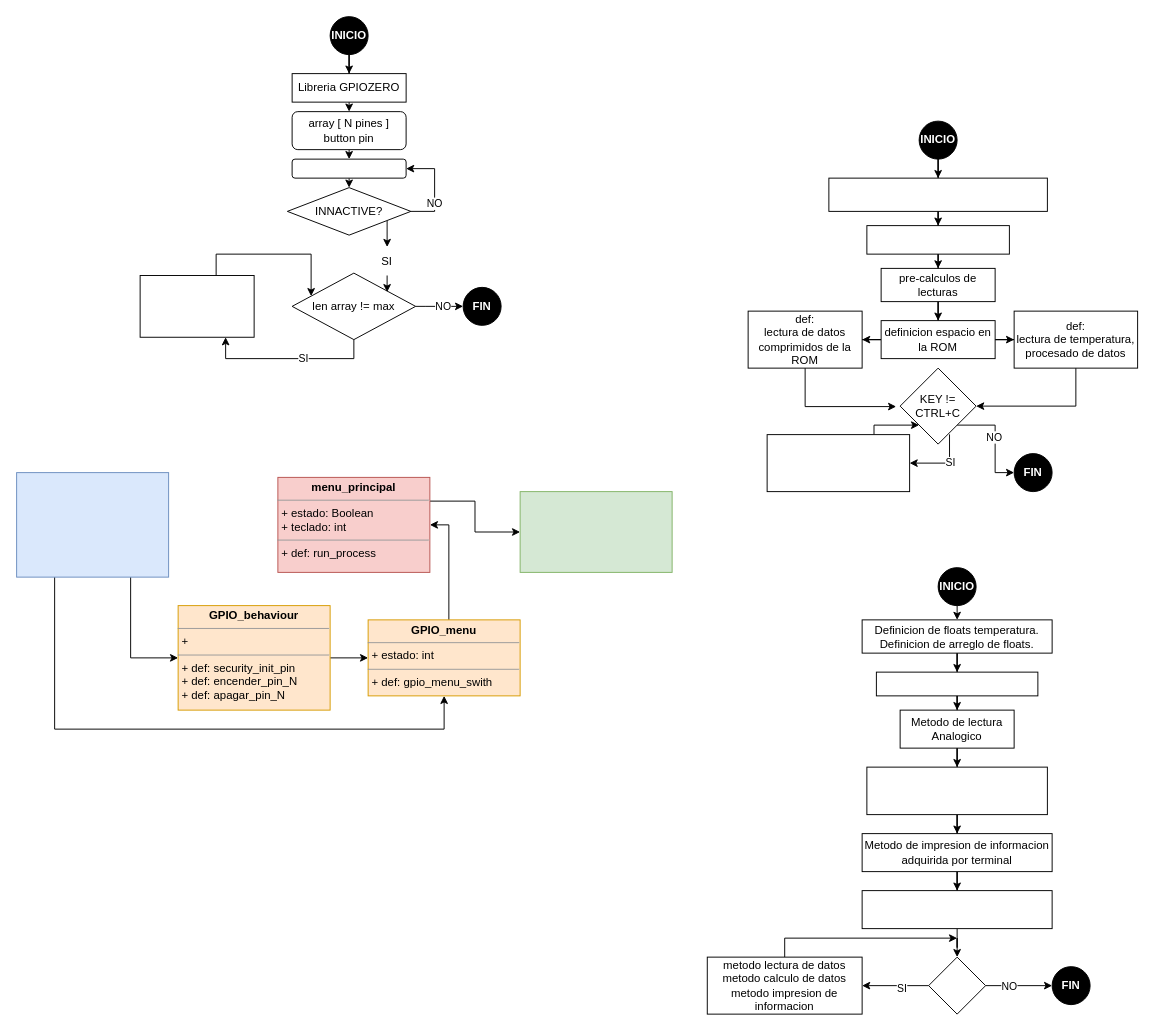
This 1154x1031 diagram has some shape labels left out. Here are the shapes that lost their labels. From the top down, the centre of each, then its label:
At pixel 348 168: "variable INNACTIVE".
At pixel 937 194: "os.system = definicion del canal y pines de comunicacion".
At pixel 937 239: "directorio de lectura de datos".
At pixel 196 306: "Encender pin N esperar un segundo Apagar pin N".
At pixel 838 463: "Impresion de datos procesados por pantalla esperar un segundo".
At pixel 92 524: "PIN_GPIO + output_N + def _init_ + def get_output_N + def set_output_N".
At pixel 595 531: "main + if _name == '_main_'".
At pixel 956 683: "Definicion de pines Analogicos".
At pixel 956 790: "Metodo de Calculo de datos analogicos a informacion de temperatura".
At pixel 956 909: "Metodo de configuracion de inicalizacion del Microcontrolador".
At pixel 957 985: "POWER".
